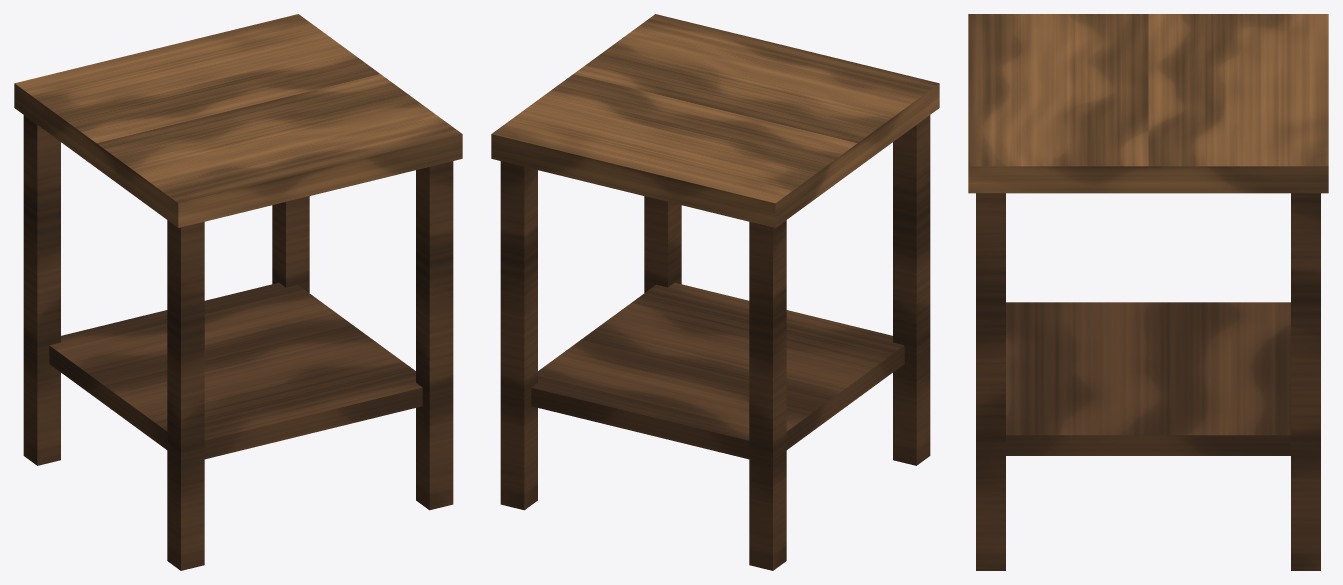
Rendered from side_table.fbx.
3 views of the same model, side by side, from view 1: azimuth 30°, elevation 25°; view 2: azimuth 150°, elevation 25°; view 3: azimuth 270°, elevation 25° (orthographic). The views are drawn at different scales.
Visible parts, largest first — view 1: side_table; view 2: side_table; view 3: side_table.
Boxes of the visible parts, x1=… form: side_table: x1=14, y1=14, x2=462, y2=570; side_table: x1=491, y1=14, x2=939, y2=570; side_table: x1=968, y1=14, x2=1328, y2=570.
Bounding box in the file's own units: 48 × 60 × 48.
